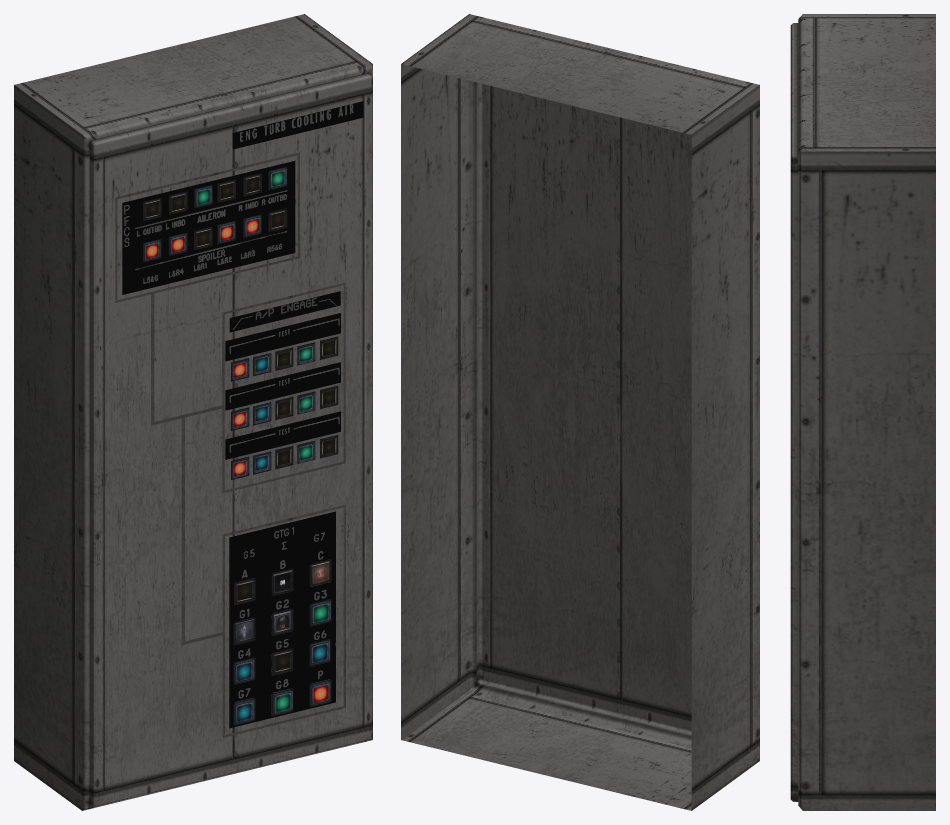
File: p6_engine_monitor_panel_v2_lod0.glb
3 views of the same model, side by side, from view 1: azimuth 30°, elevation 25°; view 2: azimuth 150°, elevation 25°; view 3: azimuth 270°, elevation 25° (orthographic). The views are drawn at different scales.
Visible parts, largest first — view 1: surf0, surf2, surf1, surf3; view 2: surf0; view 3: surf0.
Boxes of the visible parts, x1=… form: surf0: x1=14, y1=14, x2=372, y2=810; surf2: x1=122, y1=101, x2=363, y2=459; surf1: x1=142, y1=166, x2=338, y2=725; surf3: x1=229, y1=511, x2=335, y2=728; surf0: x1=401, y1=14, x2=759, y2=810; surf0: x1=790, y1=14, x2=935, y2=810.
Size of the model in its own units: 18 by 40 by 8.14.
